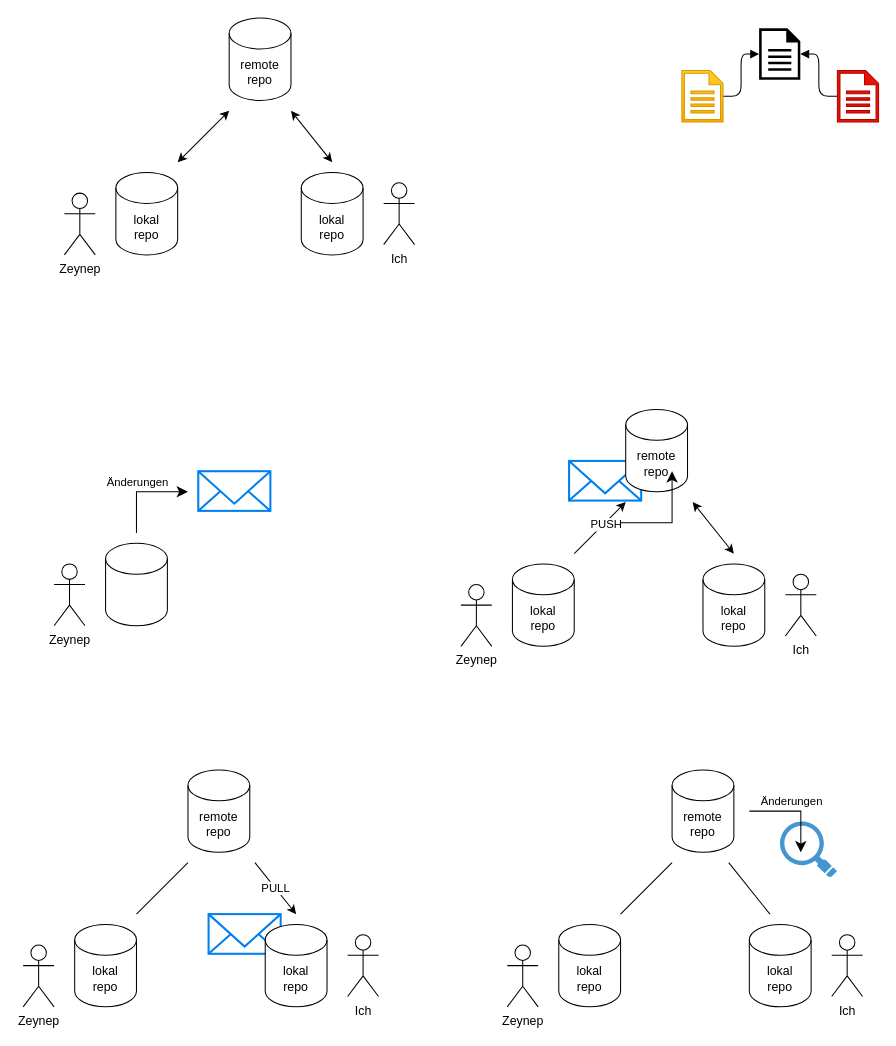
Image size: 896x1046. Some labels were removed from this diagram. Each missing label, with the box of its shape:
COMMIT: (197, 470, 271, 511)
FETCH: (780, 821, 836, 877)
MERGE: (759, 28, 800, 79)
